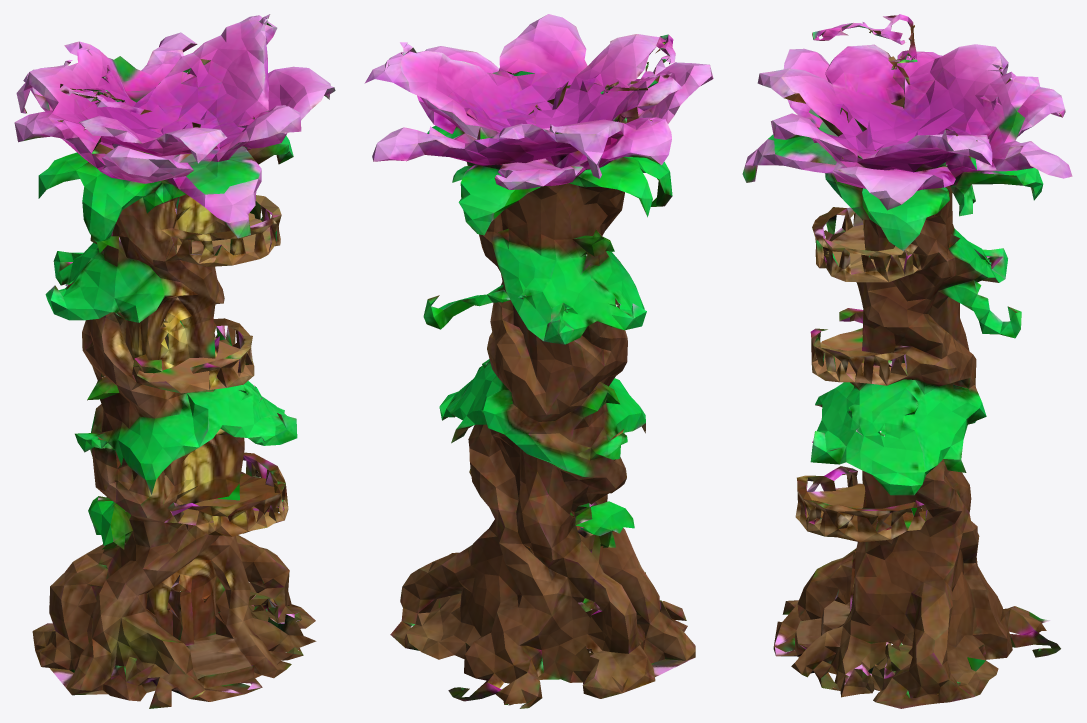
The model's file is fairy_treetower_1117.glb.
3 views of the same model, side by side, from view 1: azimuth 30°, elevation 25°; view 2: azimuth 150°, elevation 25°; view 3: azimuth 270°, elevation 25° (orthographic). The views are drawn at different scales.
Visible parts, largest first — view 1: world; view 2: world; view 3: world.
Part boxes in pixels (x1,y1,x2,y2): world: (14,14,335,708); world: (364,14,713,708); world: (742,14,1072,708).
Bounding box in the file's own units: 0.5082 × 1 × 0.5165.
Materials: 1 (1 with a texture image).
